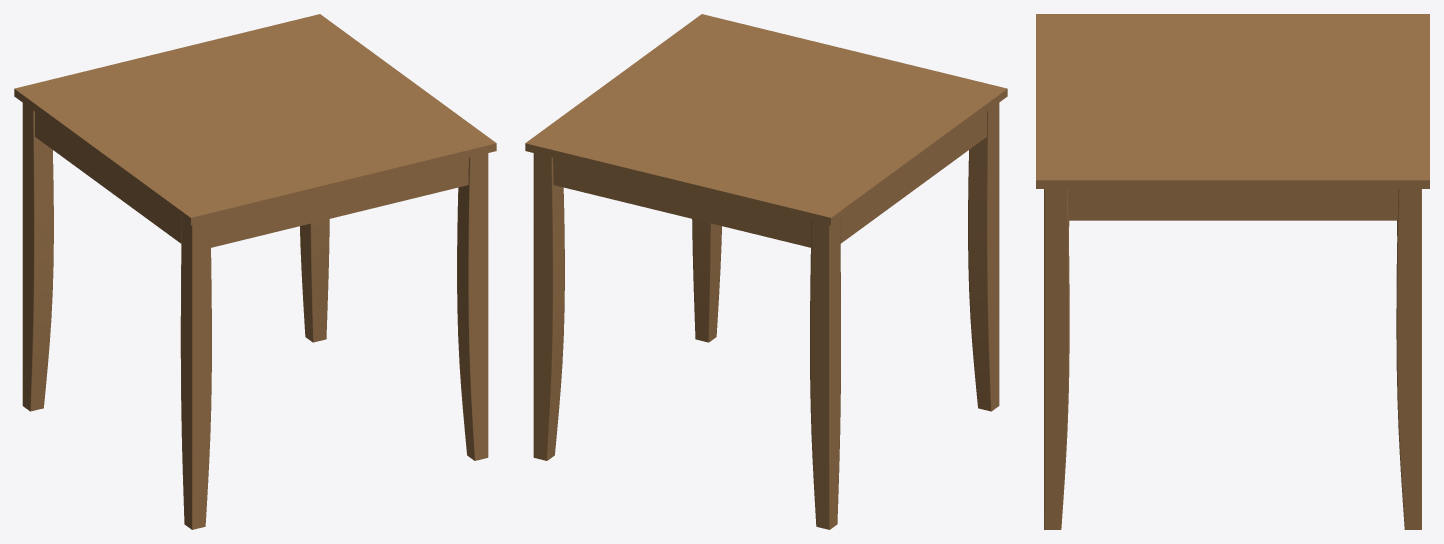
The model's file is square_table__7aaf2767b5f0.glb.
3 renders of one model, left to right at view 1: azimuth 30°, elevation 25°; view 2: azimuth 150°, elevation 25°; view 3: azimuth 270°, elevation 25°, orthographic. The views are drawn at different scales.
Parts seen in each view (by area): view 1: top, leg.002, leg.003, leg, rail.001, rail.002, leg.001; view 2: top, leg, leg.001, leg.002, rail, rail.002, leg.003; view 3: top, rail.003, leg.003, leg.001.
Boxes of the visible parts, x1,y1,x2,y2 form: top: [14, 14, 496, 225]; leg.002: [180, 219, 211, 529]; leg.003: [457, 153, 488, 460]; leg: [22, 103, 53, 411]; rail.001: [210, 158, 468, 247]; rail.002: [34, 111, 181, 243]; leg.001: [300, 219, 329, 342]; top: [525, 14, 1007, 225]; leg: [810, 219, 840, 529]; leg.001: [533, 153, 564, 460]; leg.002: [968, 103, 999, 411]; rail: [553, 158, 811, 247]; rail.002: [840, 112, 986, 243]; leg.003: [692, 219, 721, 342]; top: [1036, 14, 1429, 188]; rail.003: [1067, 189, 1398, 220]; leg.003: [1044, 189, 1069, 529]; leg.001: [1396, 189, 1421, 529].
Size of the model in its own units: 1.2 by 1.18 by 1.2.
